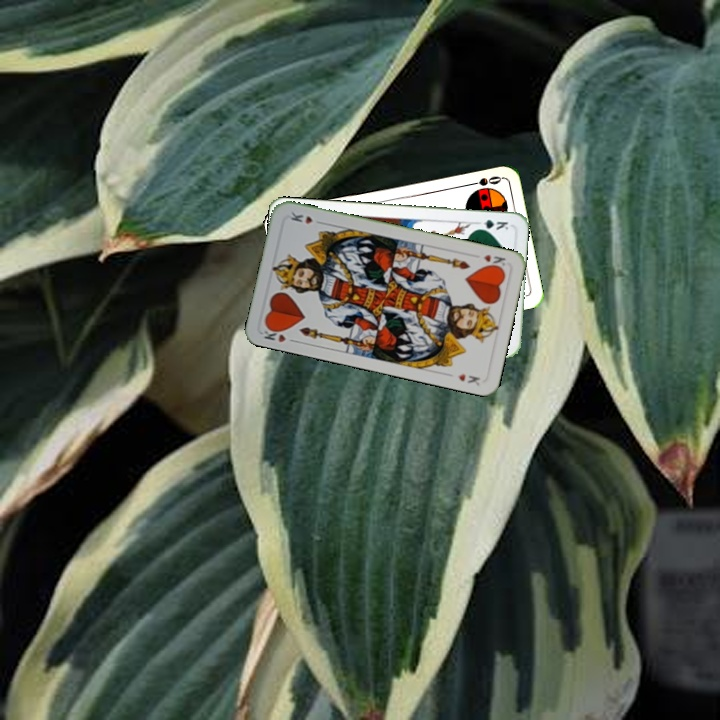GK: (472, 216, 511, 232)
HK: (260, 322, 299, 345), (479, 250, 508, 272)
SO: (463, 172, 504, 189)
